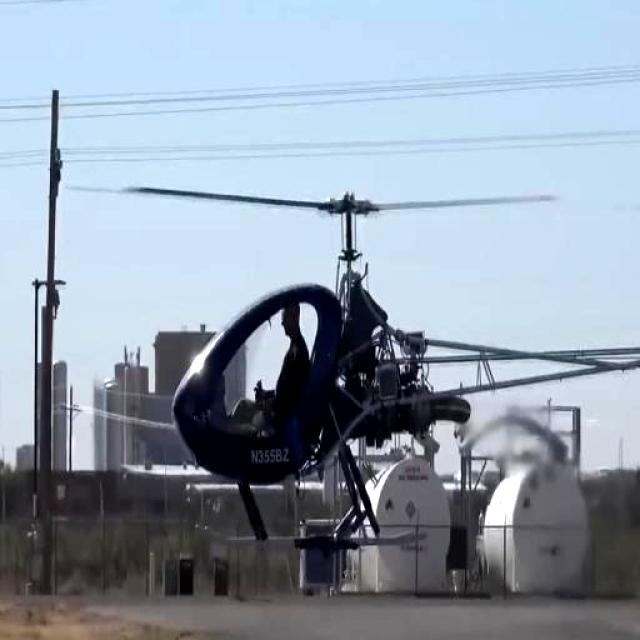drone: (170, 184, 640, 545)
